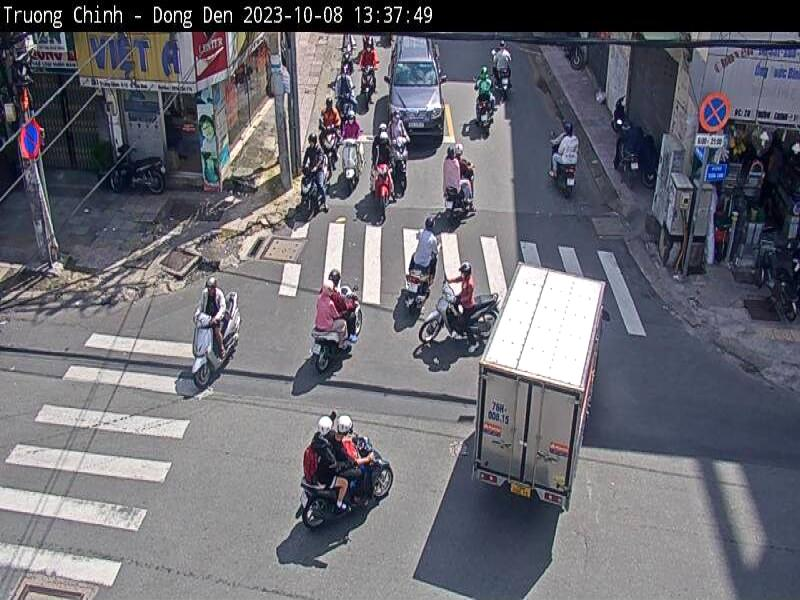car: (380, 34, 444, 157)
motorcycle: (263, 428, 407, 534), (410, 279, 498, 384), (181, 290, 245, 401), (285, 280, 353, 373), (383, 249, 427, 347), (294, 154, 324, 239), (362, 150, 388, 228), (339, 129, 355, 190)
truck: (451, 237, 611, 560)
